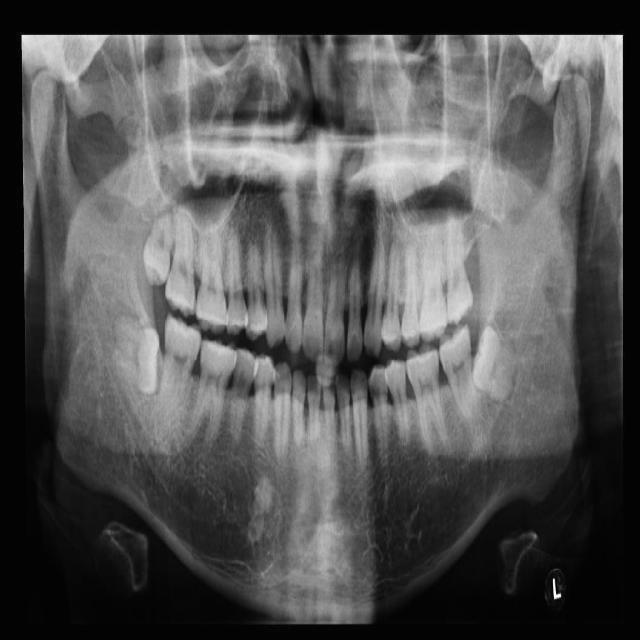impacted tooth: (108, 318, 158, 391), (472, 326, 521, 399), (143, 199, 172, 288)
